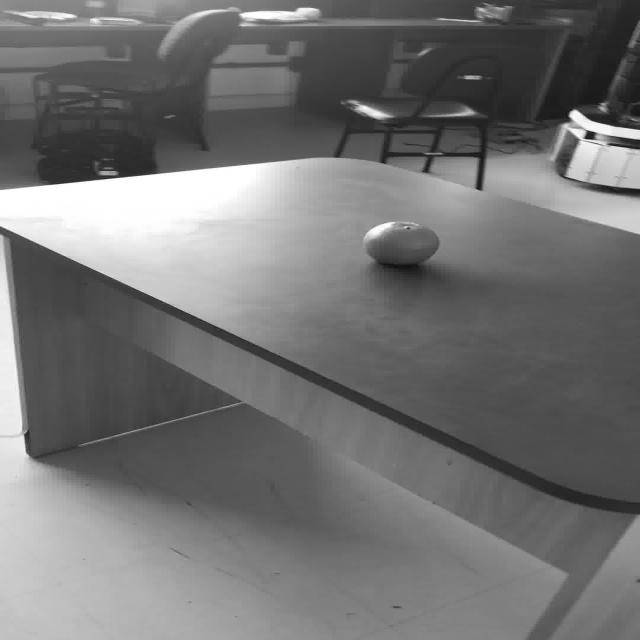orange: (361, 220, 439, 265), (294, 7, 320, 20)
